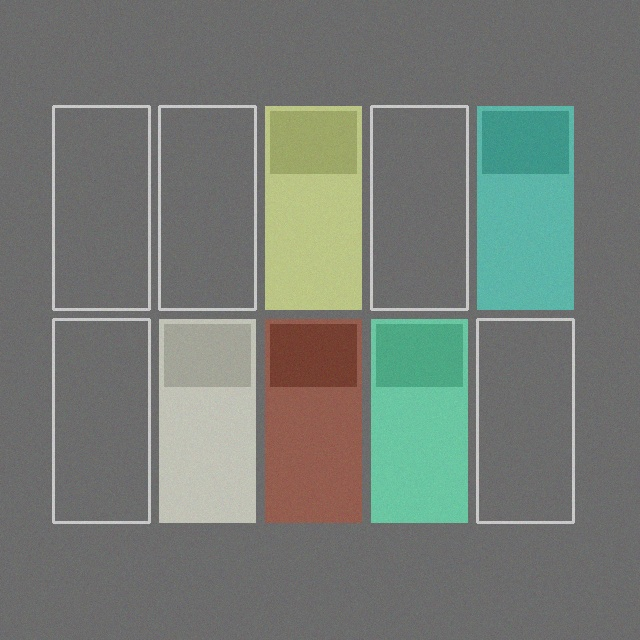space-empty: (53, 106, 149, 309), (159, 106, 255, 309), (371, 106, 467, 309), (53, 319, 149, 522), (477, 319, 573, 522)
space-occupied: (265, 106, 361, 309), (477, 106, 573, 309), (159, 319, 255, 522), (265, 319, 361, 522), (371, 319, 467, 522)
